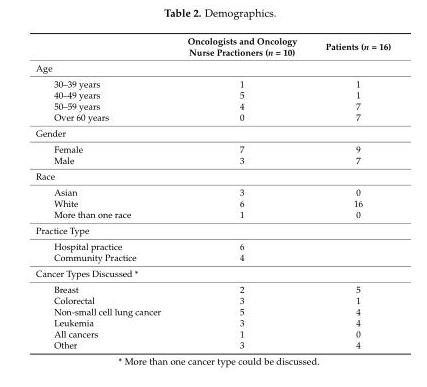table: (35, 35, 390, 350)
table column: (35, 35, 173, 350), (173, 35, 310, 350), (310, 35, 390, 350)
table column header: (35, 35, 390, 59)
table projected row header: (35, 59, 390, 75), (35, 124, 390, 140), (35, 167, 390, 183), (35, 265, 390, 281), (35, 222, 390, 237)
table row: (35, 35, 390, 59), (35, 59, 390, 75), (35, 124, 390, 140), (35, 167, 390, 183), (35, 265, 390, 281), (35, 222, 390, 237), (35, 75, 390, 89), (35, 140, 390, 154), (35, 183, 390, 197), (35, 208, 390, 222), (35, 237, 390, 251), (35, 251, 390, 265), (35, 111, 390, 124), (35, 154, 390, 167), (35, 281, 390, 294), (35, 327, 390, 339), (35, 89, 390, 100), (35, 100, 390, 111), (35, 197, 390, 208), (35, 294, 390, 305), (35, 305, 390, 316), (35, 316, 390, 327), (35, 339, 390, 350)
